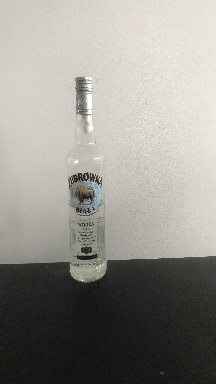butelka: (64, 73, 108, 285)
